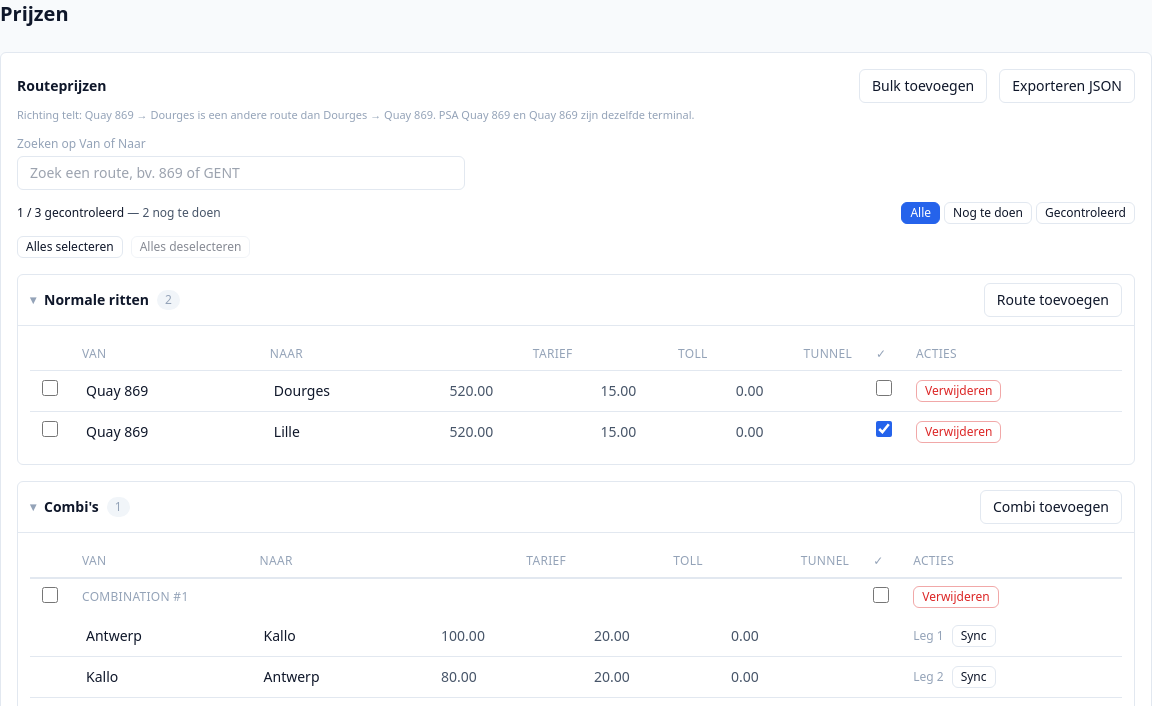
Test case: deleting the selection › asks first, and sends nothing when the operator backs out
Check: the button "Lille" is shown, box [270,420,422,444]
Click the checkbox named "Selecteren: Quay 869 Dourges" at (50, 388), box [42,380,58,396]
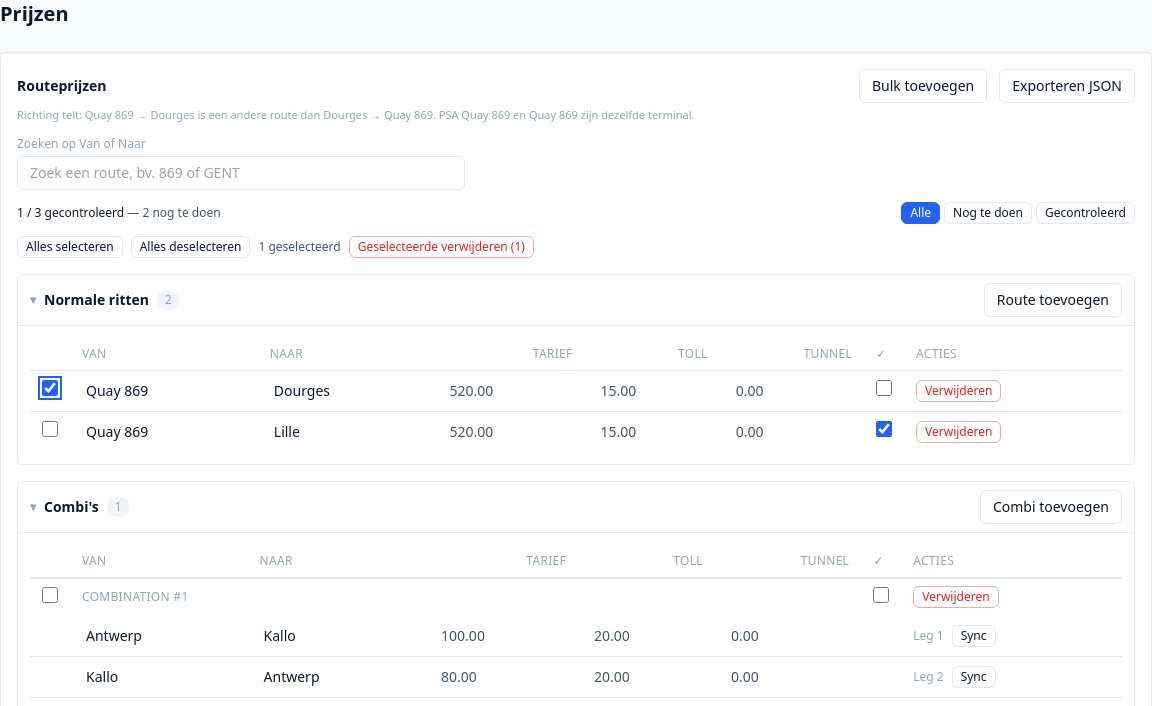
Click the button "Geselecteerde verwijderen (1)" at (441, 246), box [349,236,534,258]
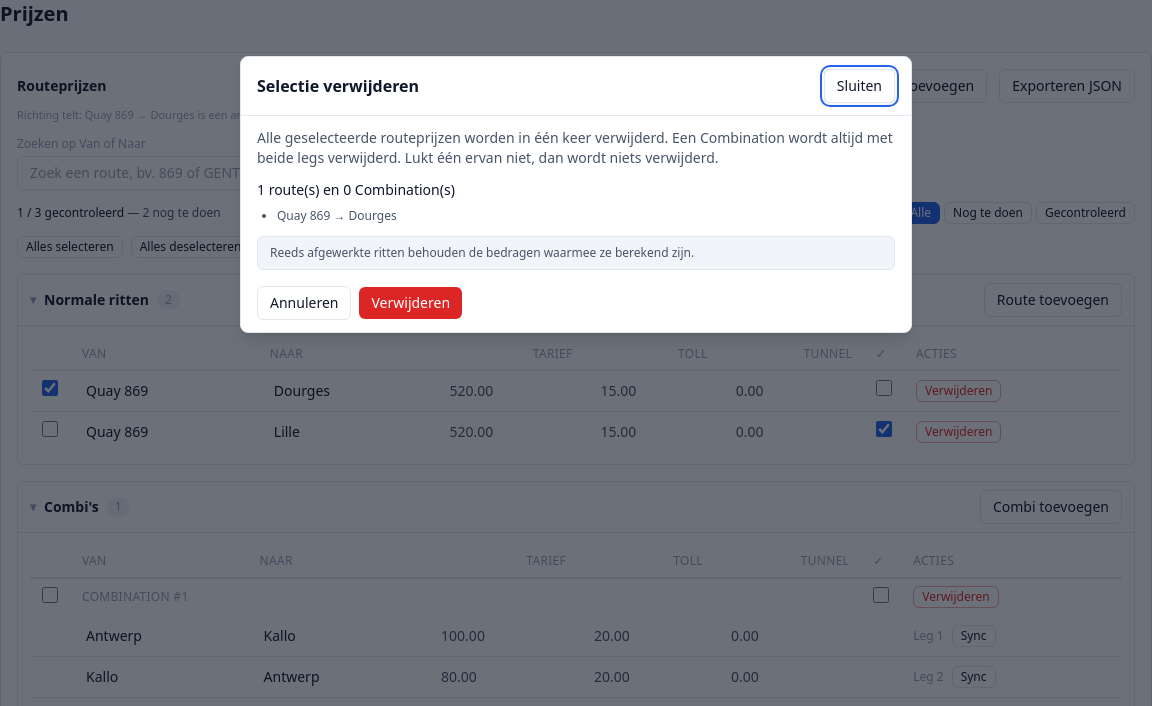
Check: the dialog shows "Selectie verwijderen", box [257,75,419,97]
Click the button "Annuleren" at (304, 303), box [257,286,352,320]
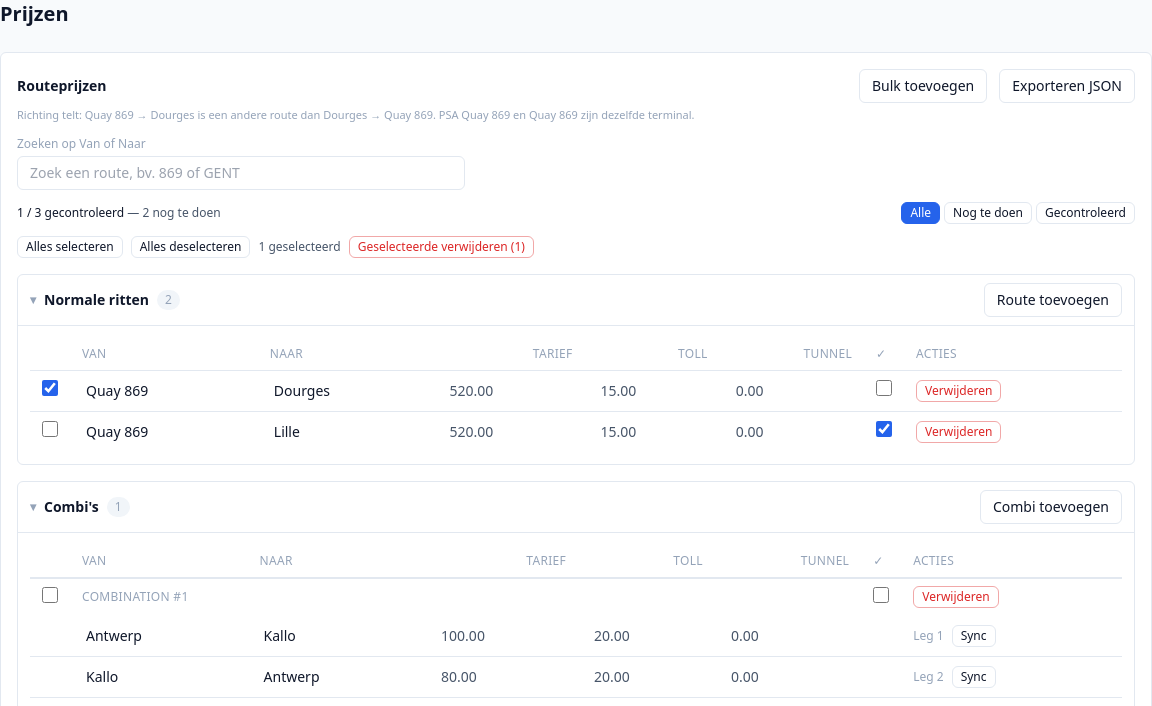
Check: the button "Geselecteerde verwijderen (1)" is shown, box [349,236,534,258]
Check: the dialog is gone
